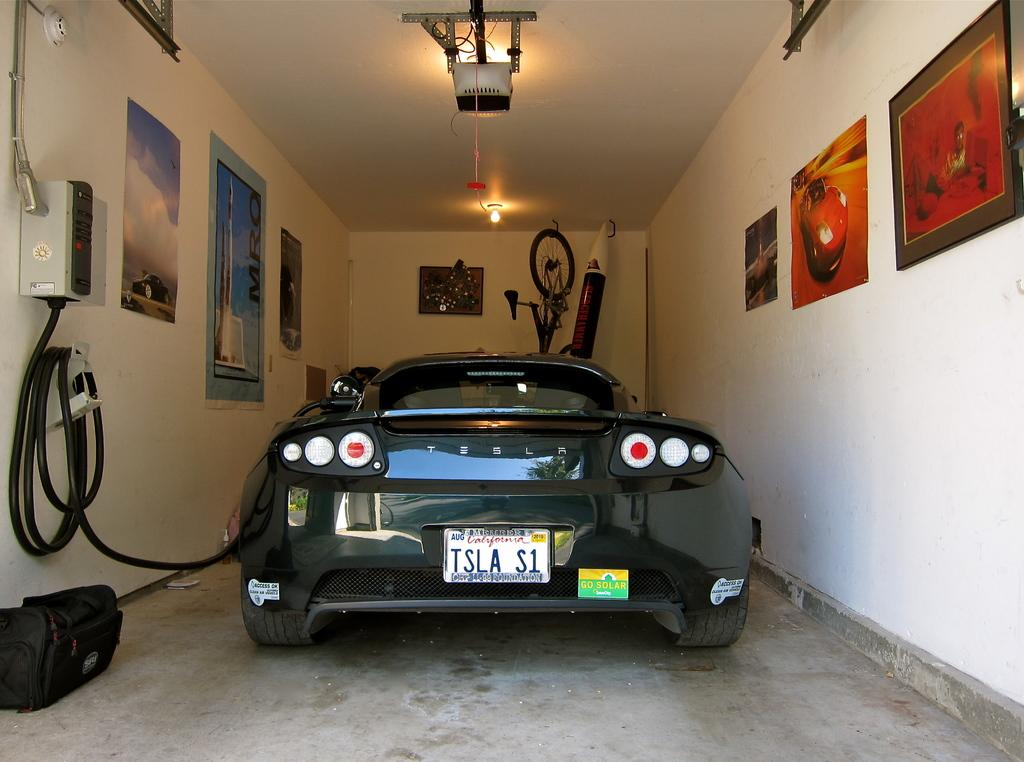Luggage-and-bags: (6, 578, 116, 720)
